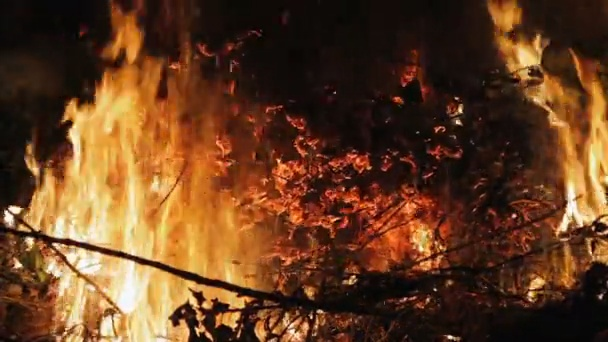fire: (4, 9, 248, 339), (545, 67, 608, 235), (491, 1, 543, 73), (407, 219, 437, 268), (531, 277, 544, 287)
